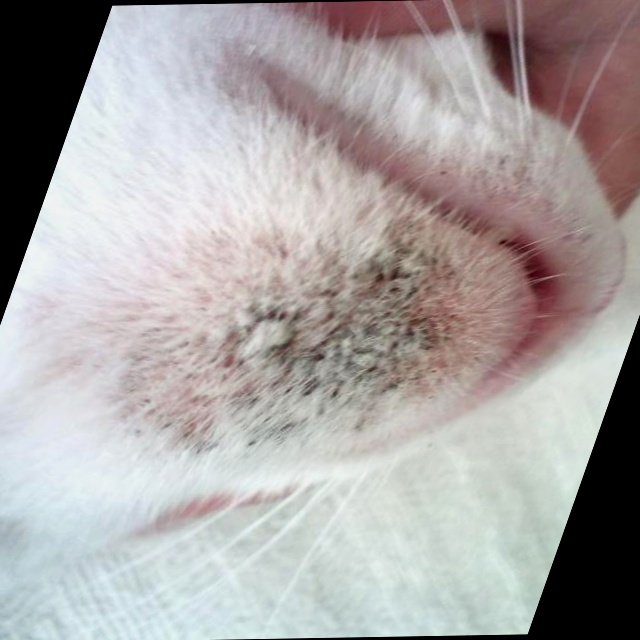acne: (167, 243, 489, 458)
